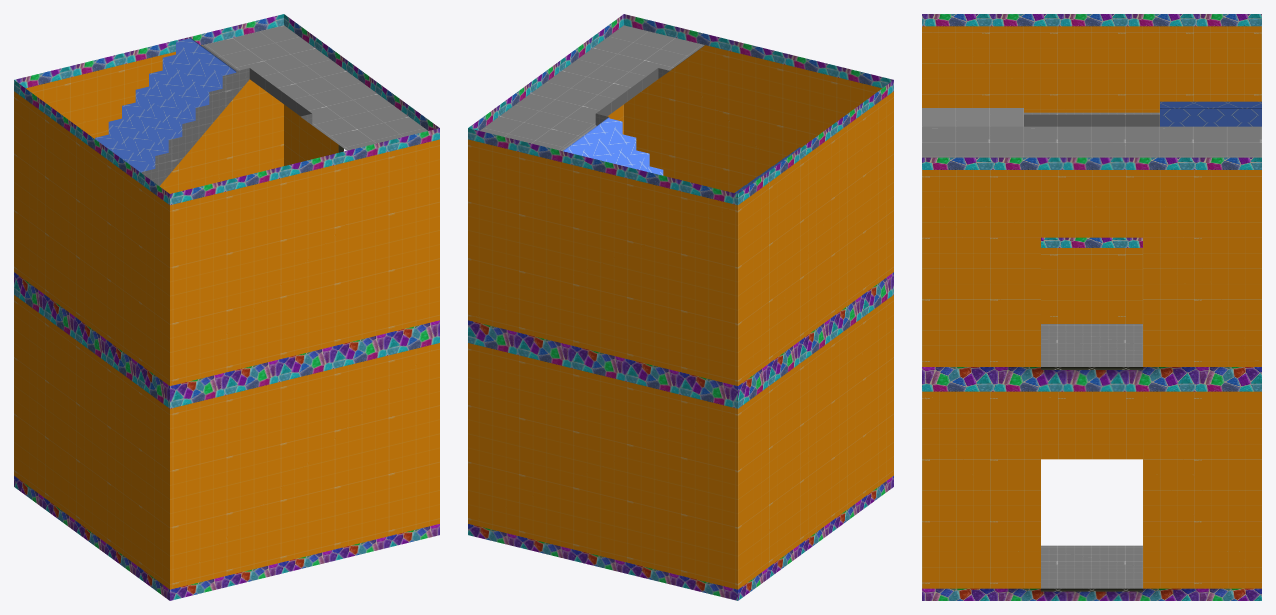
File: stairs.FBX
The picture shows the model from 3 angles, left to right: view 1: azimuth 30°, elevation 25°; view 2: azimuth 150°, elevation 25°; view 3: azimuth 270°, elevation 25°; orthographic projection. The views are drawn at different scales.
Visible parts, largest first — view 1: walls001, walls, stairs001; view 2: walls001, walls, stairs001; view 3: walls001, walls, stairs001, stairs.
Boxes of the visible parts, bbox=[...] form: walls001: bbox=[14, 14, 439, 397]; walls: bbox=[14, 283, 439, 600]; stairs001: bbox=[95, 25, 427, 185]; walls001: bbox=[468, 14, 893, 397]; walls: bbox=[468, 283, 893, 600]; stairs001: bbox=[480, 25, 800, 193]; walls001: bbox=[922, 14, 1261, 379]; walls: bbox=[922, 237, 1261, 600]; stairs001: bbox=[922, 101, 1261, 366]; stairs: bbox=[1041, 545, 1142, 588].
Size of the model in its own units: 5.1 by 7.2 by 5.
Materials: 6 (6 with a texture image).
